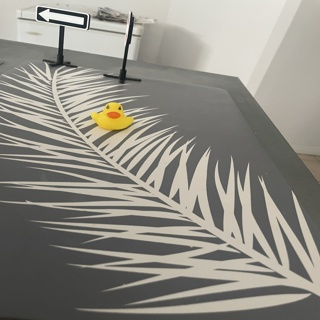duck_regular: (89, 103, 132, 128)
